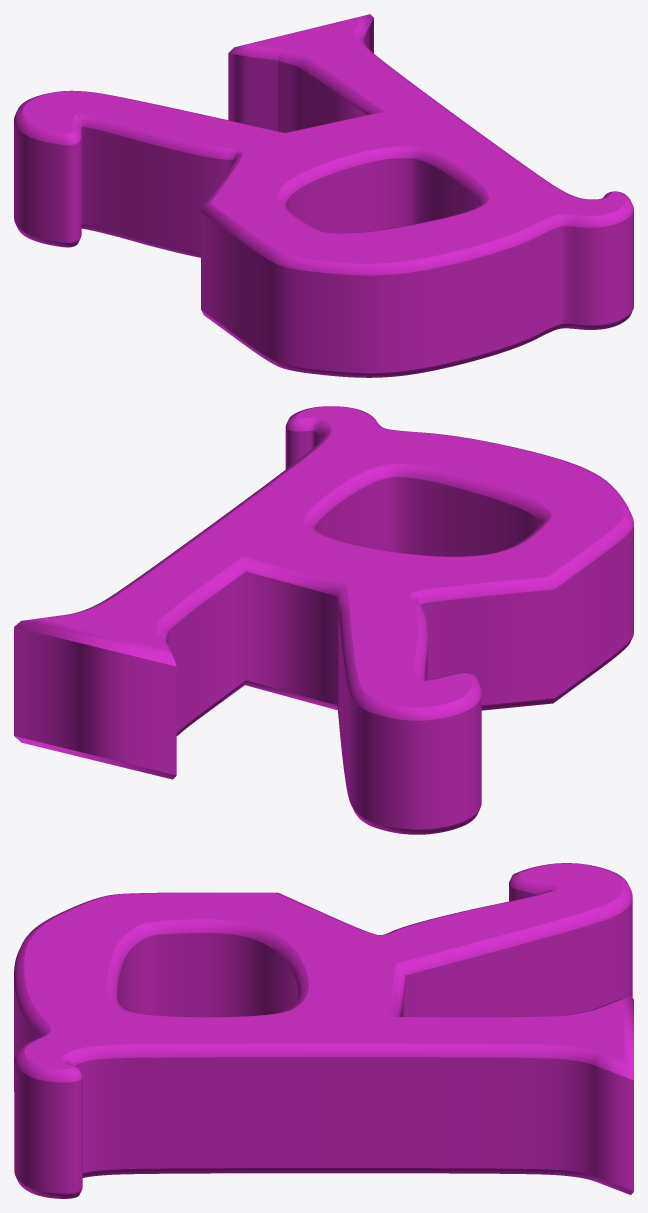
The model's file is Letter_R.fbx.
3 renders of one model, top to bottom at view 1: azimuth 30°, elevation 25°; view 2: azimuth 150°, elevation 25°; view 3: azimuth 270°, elevation 25°, orthographic. The views are drawn at different scales.
Visible parts, largest first — view 1: Letter_R; view 2: Letter_R; view 3: Letter_R.
Part boxes in pixels (x1,y1,x2,y2): Letter_R: (14, 14, 633, 377); Letter_R: (14, 406, 633, 834); Letter_R: (14, 863, 633, 1198).
Size of the model in its own units: 0.4968 by 0.14 by 0.6073.
